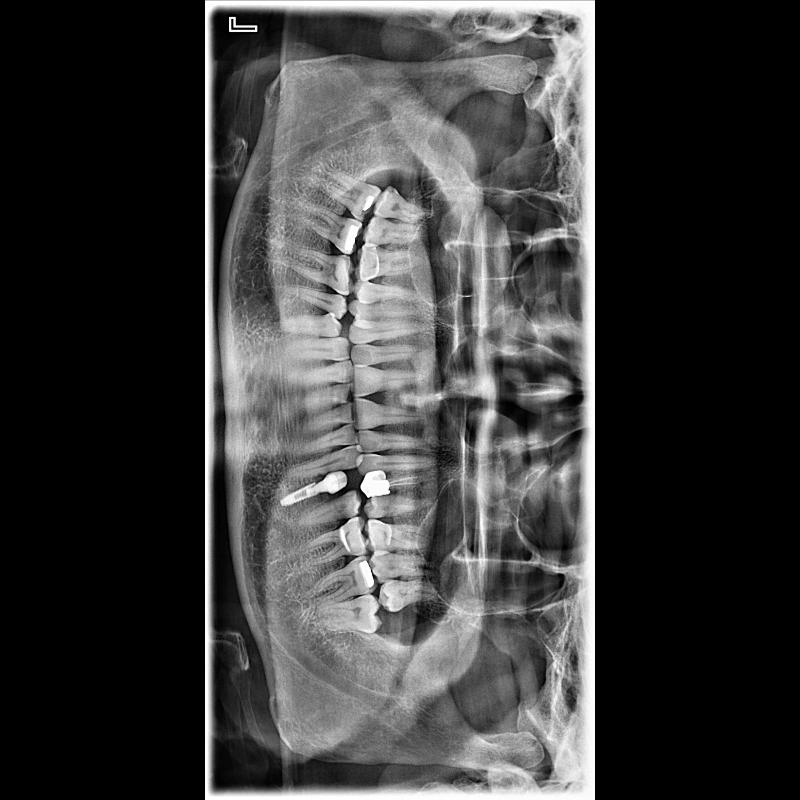osstem: (280, 480, 318, 511)
